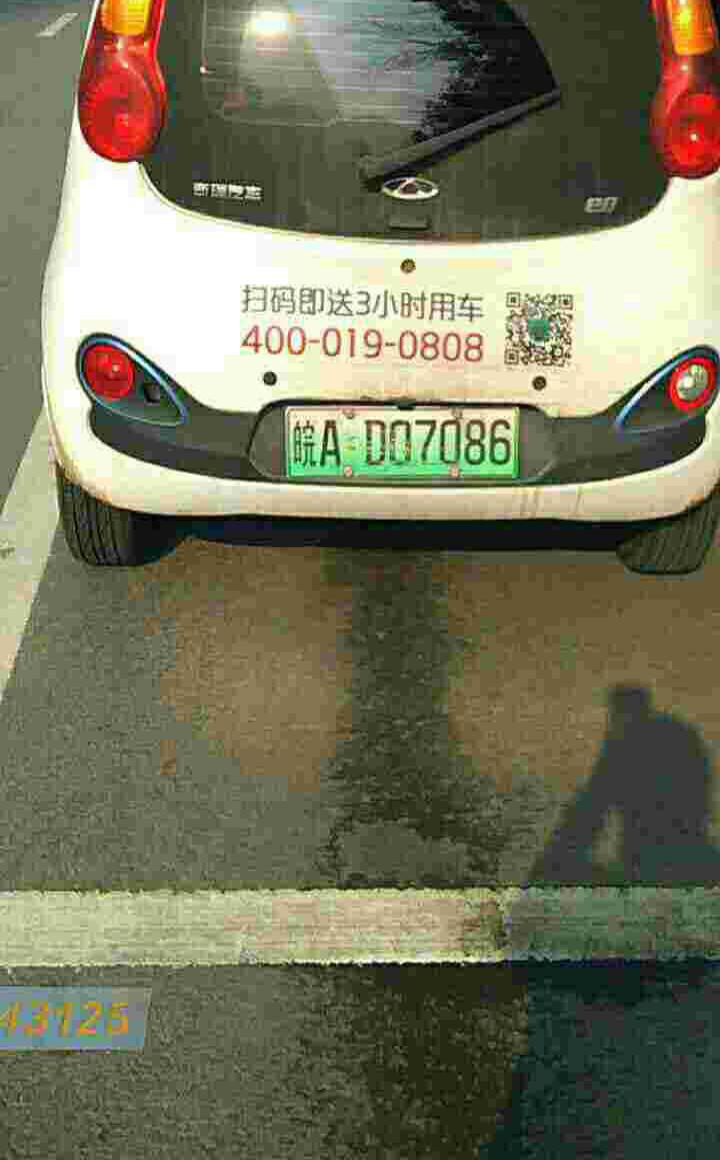car_id: (283, 404, 517, 481)
